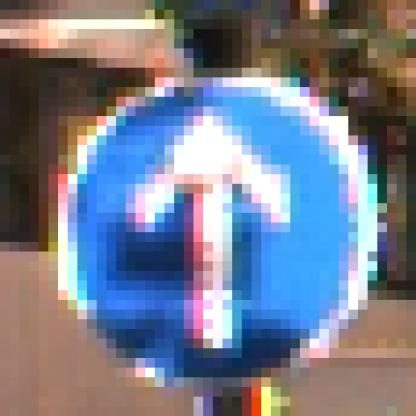AheadOnly: (59, 59, 369, 359)
